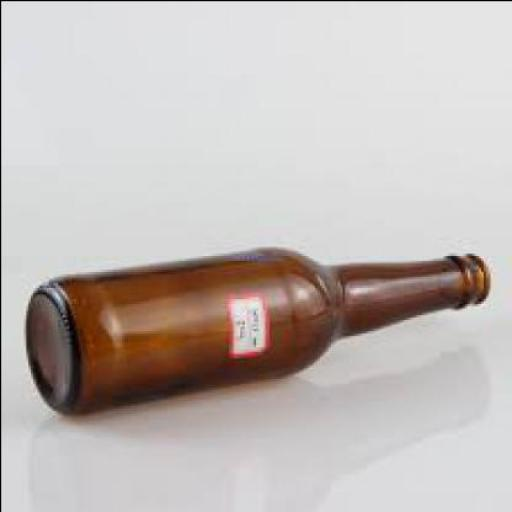glass: (27, 246, 490, 414)
